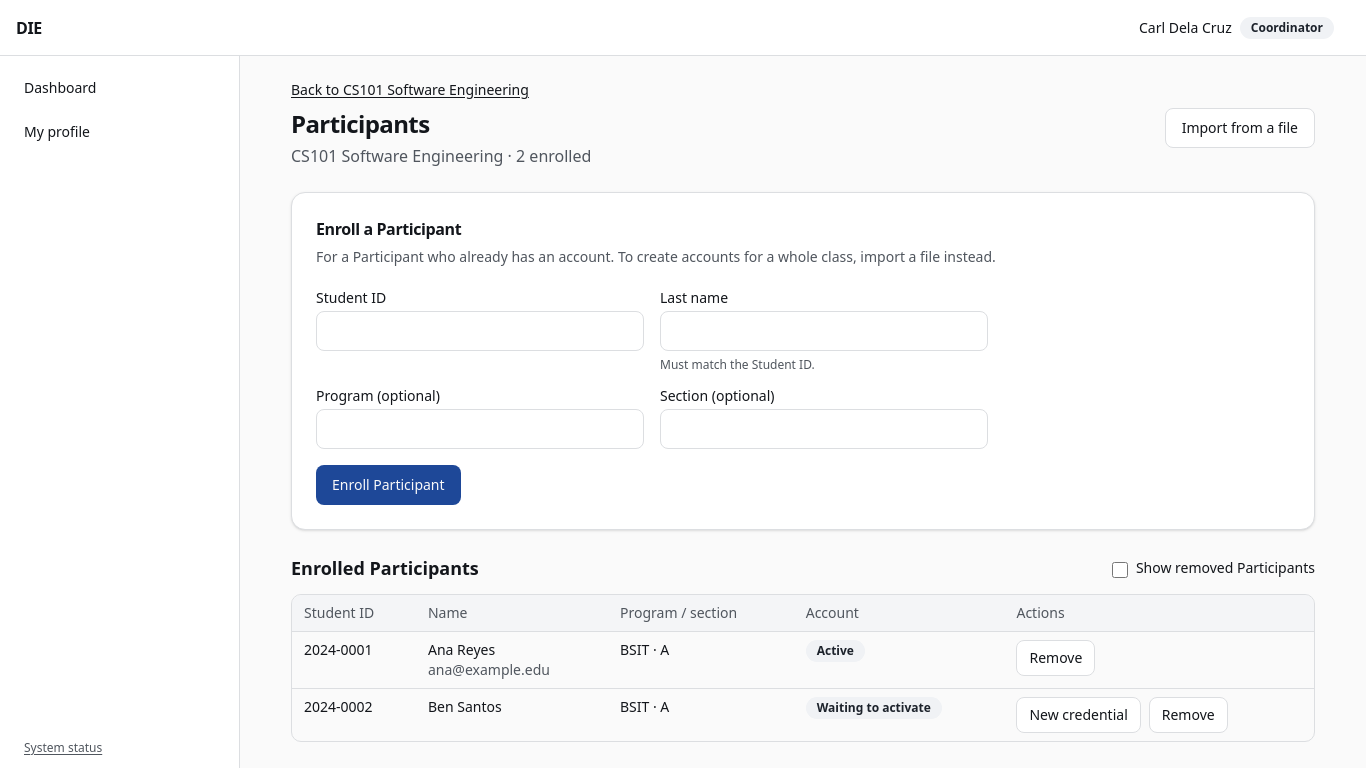
Test: Enroll a Participant › asks for the Student ID and, from a Coordinator, the last name
The width and height of the screenshot is (1366, 768).
Click the button "Enroll Participant".
click(388, 485)  # box 316,465 -> 460,505
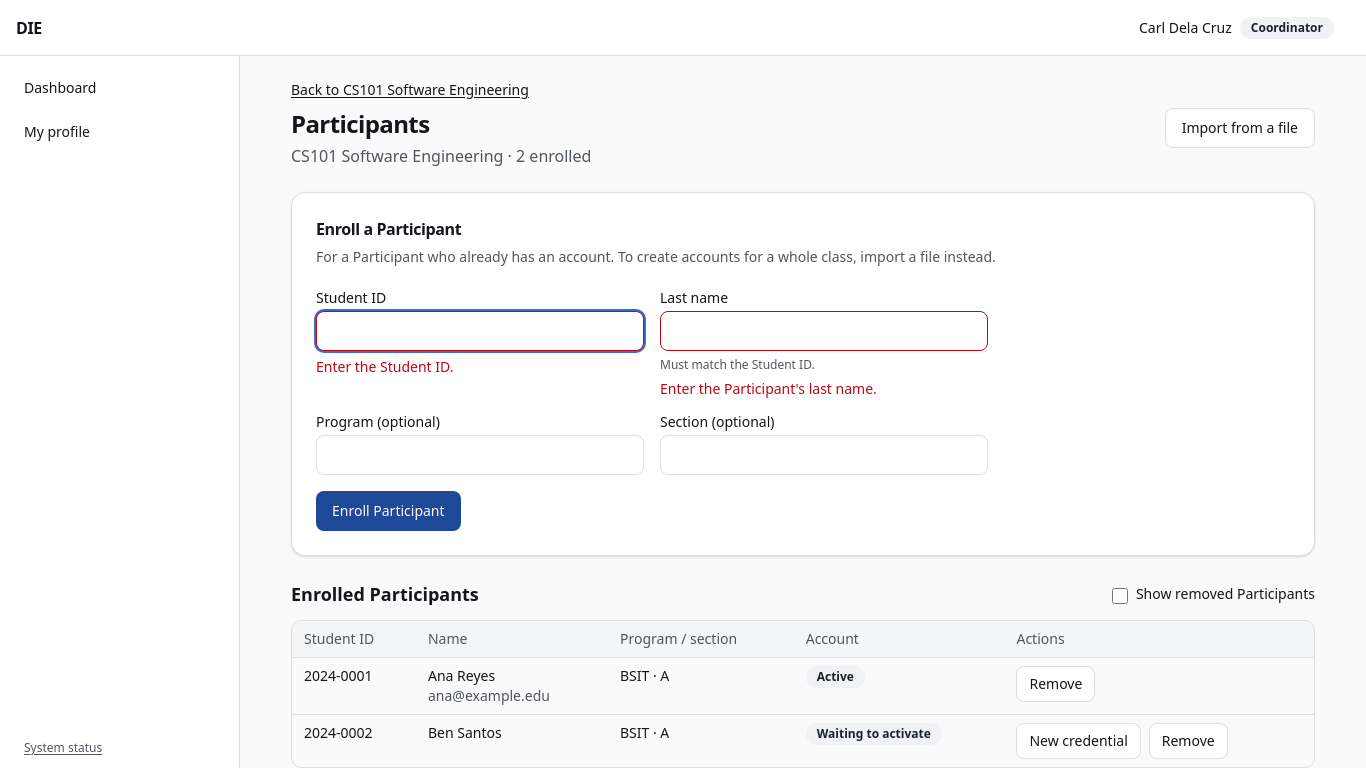
Check: the text "Enter the Student ID." is shown, box 316,357 -> 454,376
Check: the text "Enter the Participant's last name." is shown, box 660,379 -> 877,398
